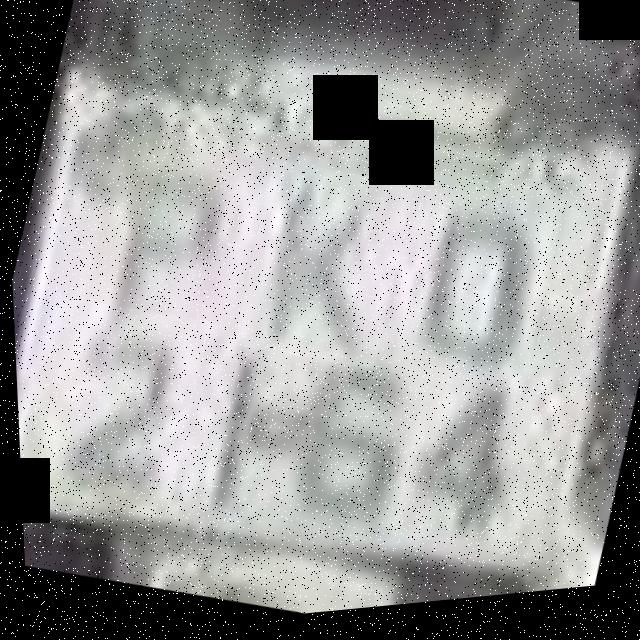2: (18, 290, 213, 533)
4: (377, 351, 557, 585)
5: (245, 332, 431, 558)
K: (223, 154, 419, 387)
O: (378, 169, 570, 415)
P: (82, 135, 250, 365)
